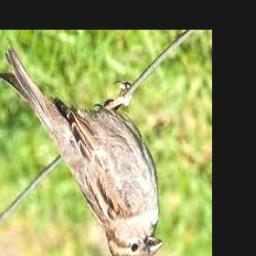Sparrow: (0, 49, 164, 256)
